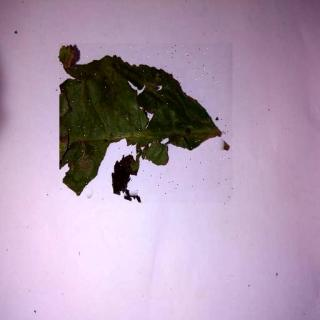Anthracnose: (61, 44, 235, 204)
